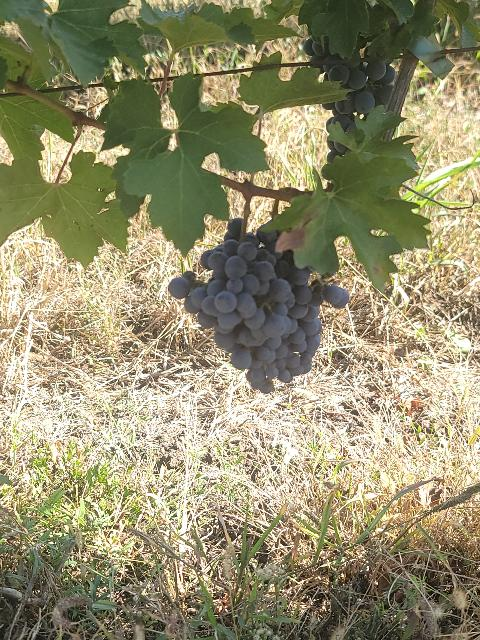grapes: (169, 218, 349, 394), (302, 39, 396, 131)
